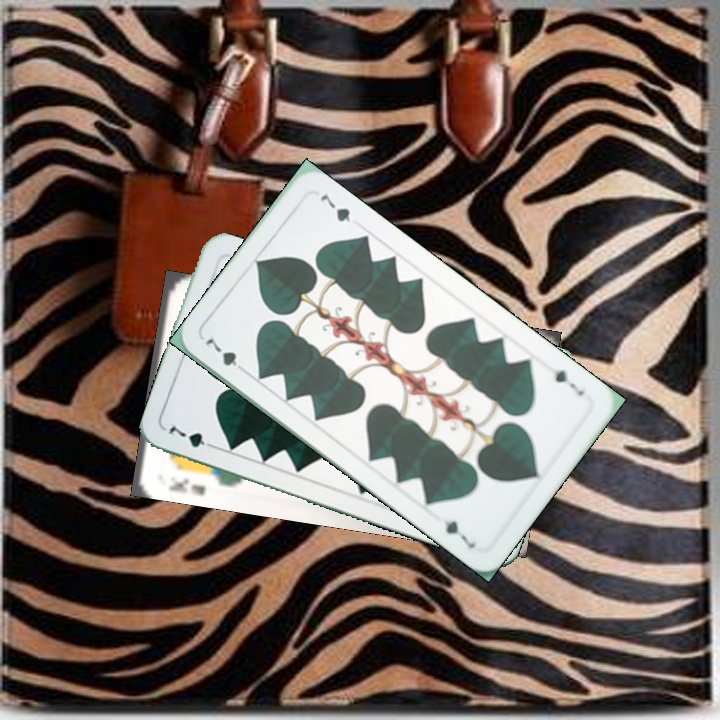EK: (165, 473, 208, 497)
G7: (200, 332, 250, 377), (164, 421, 220, 452), (550, 365, 588, 399)
